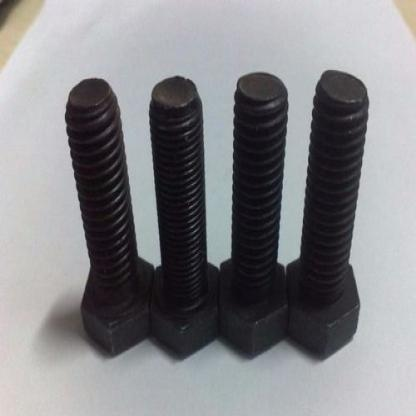FOD: (285, 67, 371, 362), (63, 76, 152, 358), (148, 72, 221, 363), (219, 70, 290, 360)
